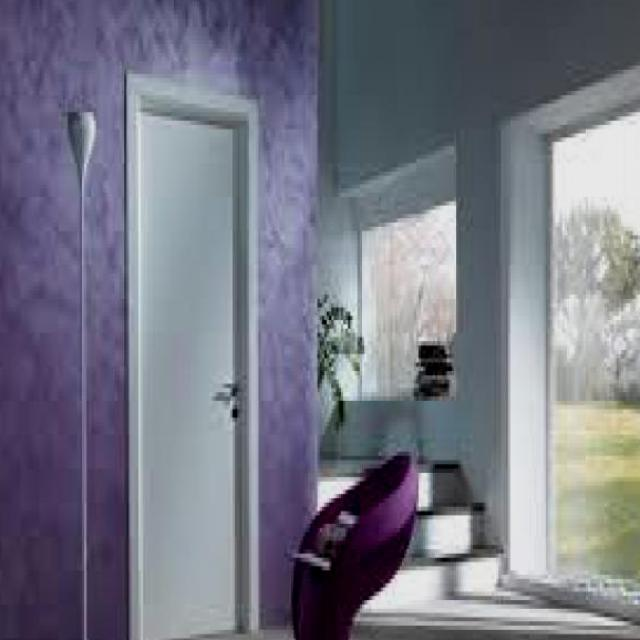door: (125, 79, 259, 638)
